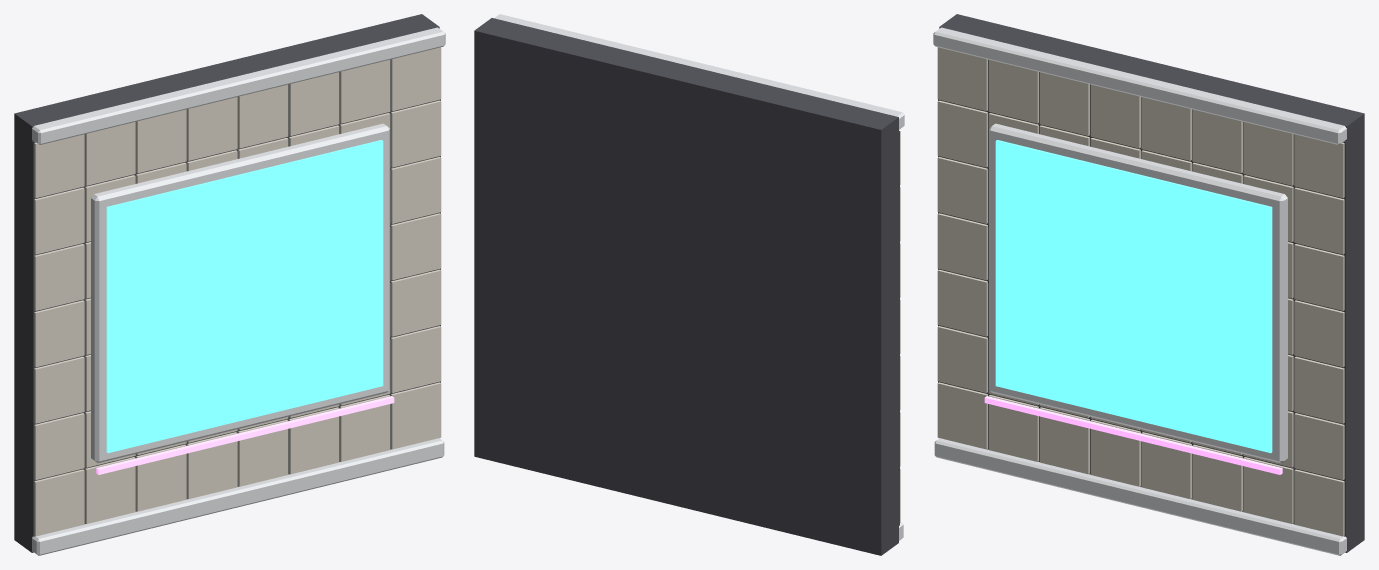
File: wall_mp_ad.glb
3 views of the same model, side by side, from view 1: azimuth 30°, elevation 25°; view 2: azimuth 150°, elevation 25°; view 3: azimuth 330°, elevation 25° (orthographic).
Visible parts, largest first — view 1: wall_mp_ad; view 2: wall_mp_ad; view 3: wall_mp_ad.
Boxes of the visible parts, box(x1,y1,x2,y2) form: wall_mp_ad: box(14, 14, 445, 555); wall_mp_ad: box(474, 14, 904, 555); wall_mp_ad: box(933, 14, 1364, 555).
Size of the model in its own units: 4 by 4 by 0.48.
